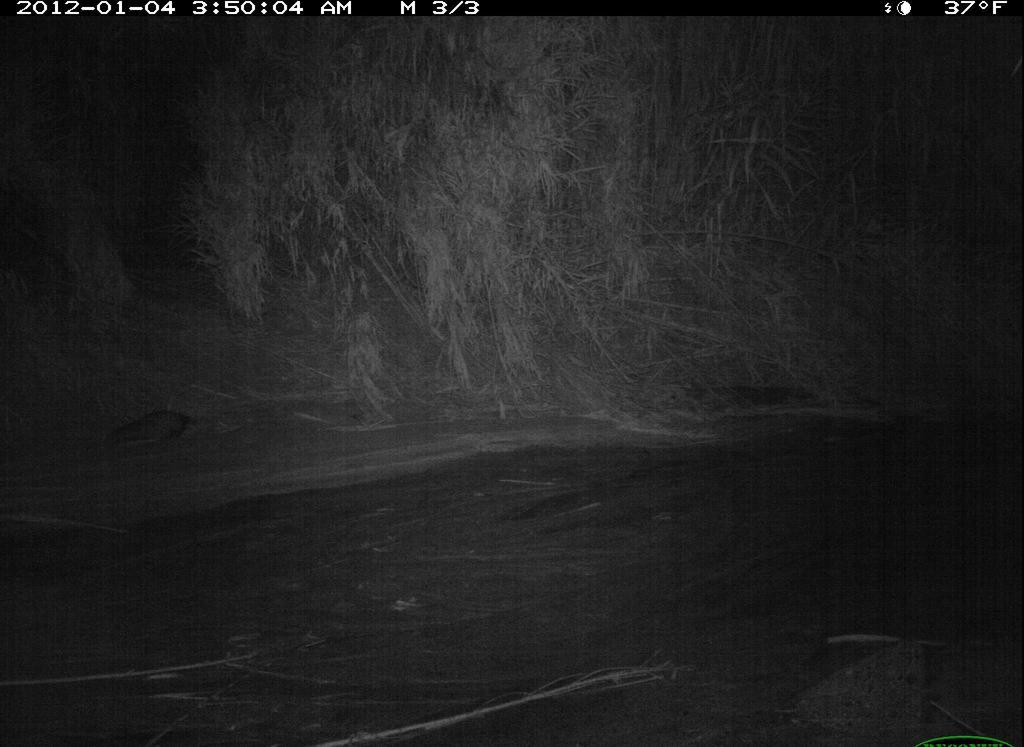opossum: (98, 404, 217, 453)
